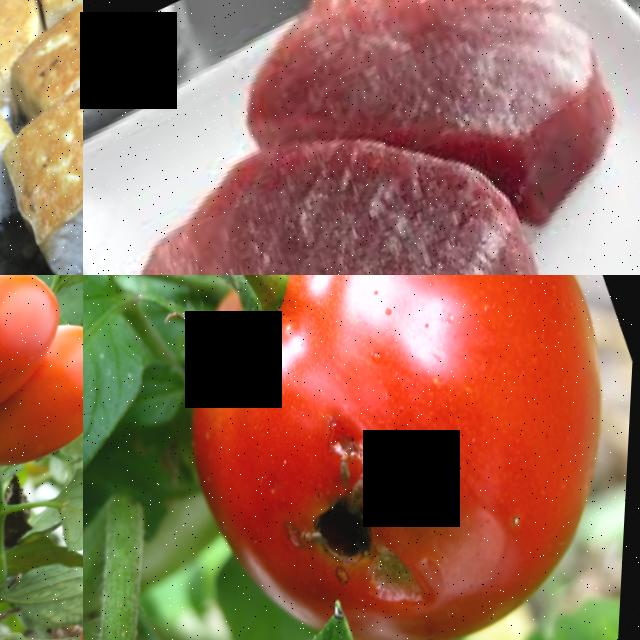tofu: (0, 61, 83, 275), (0, 50, 32, 233)
tomato: (98, 275, 640, 640), (0, 275, 83, 477)
tuna: (214, 0, 640, 275), (86, 56, 585, 275)
